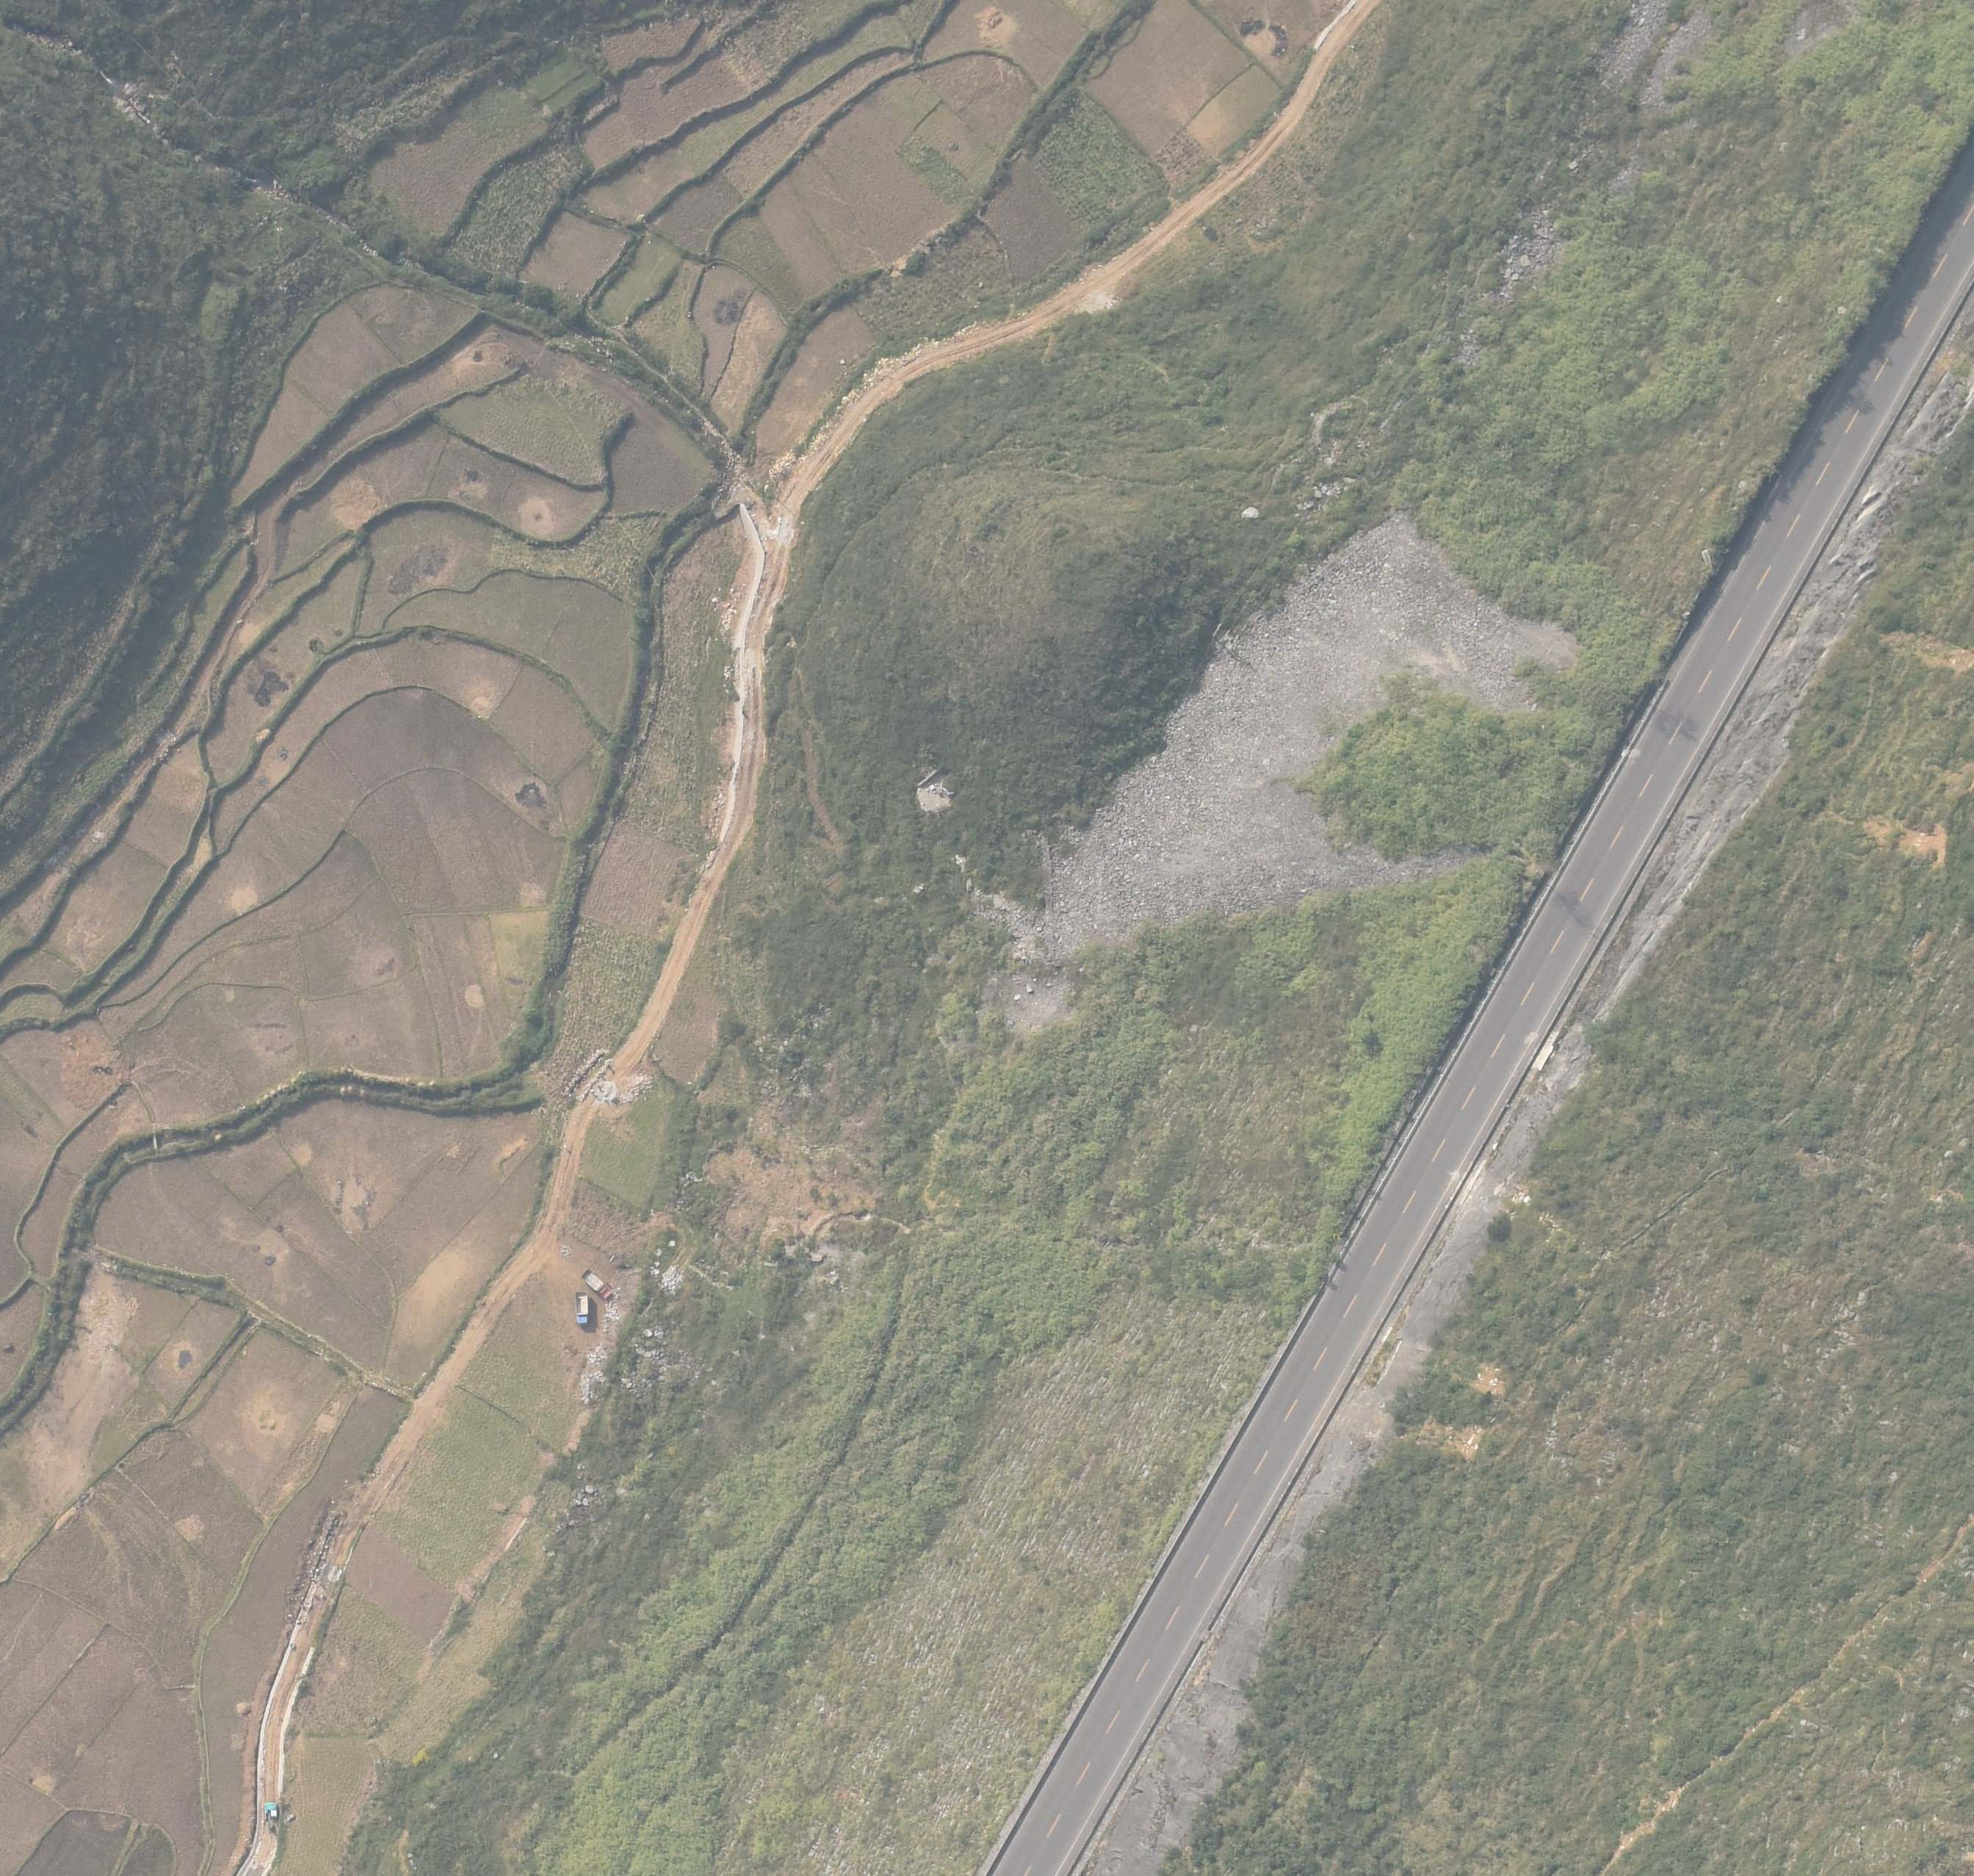quarry: (963, 513, 1582, 978)
vehicle: (584, 1271, 612, 1302), (575, 1291, 589, 1326)
